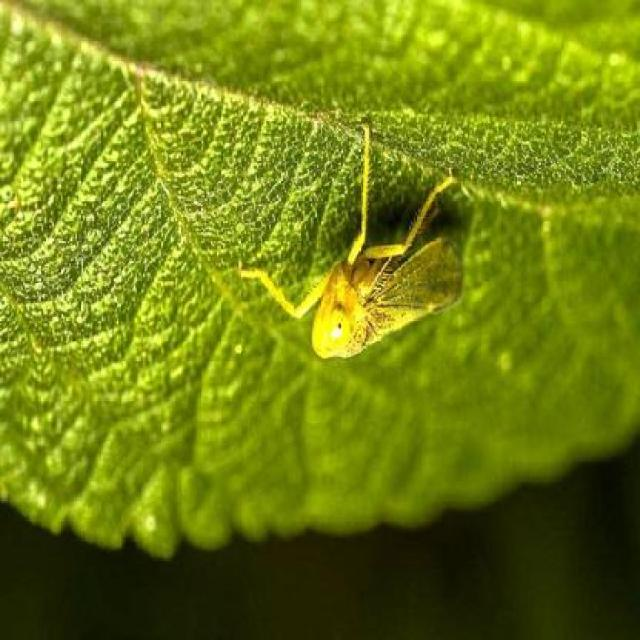green-leafhopper: (235, 123, 468, 365)
